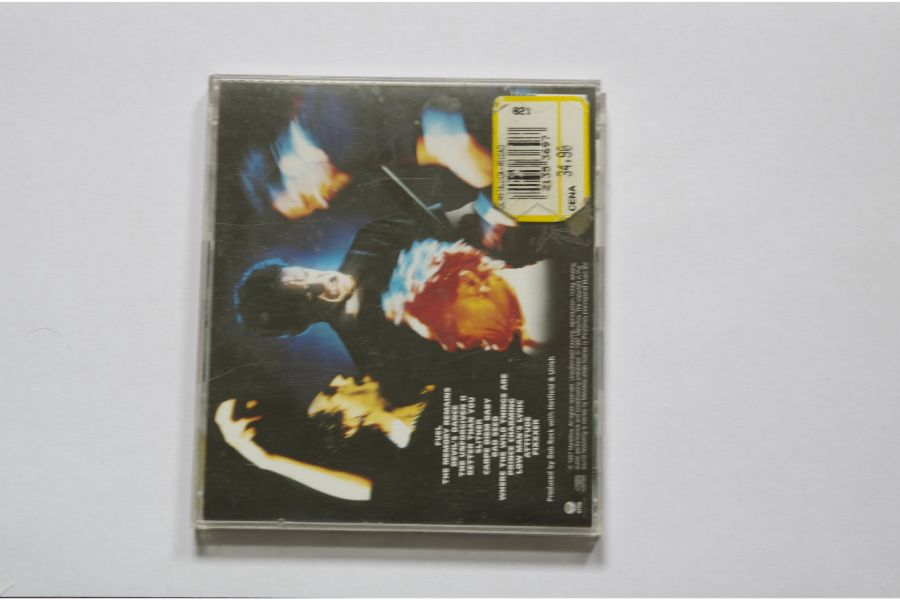album: (194, 73, 602, 542)
